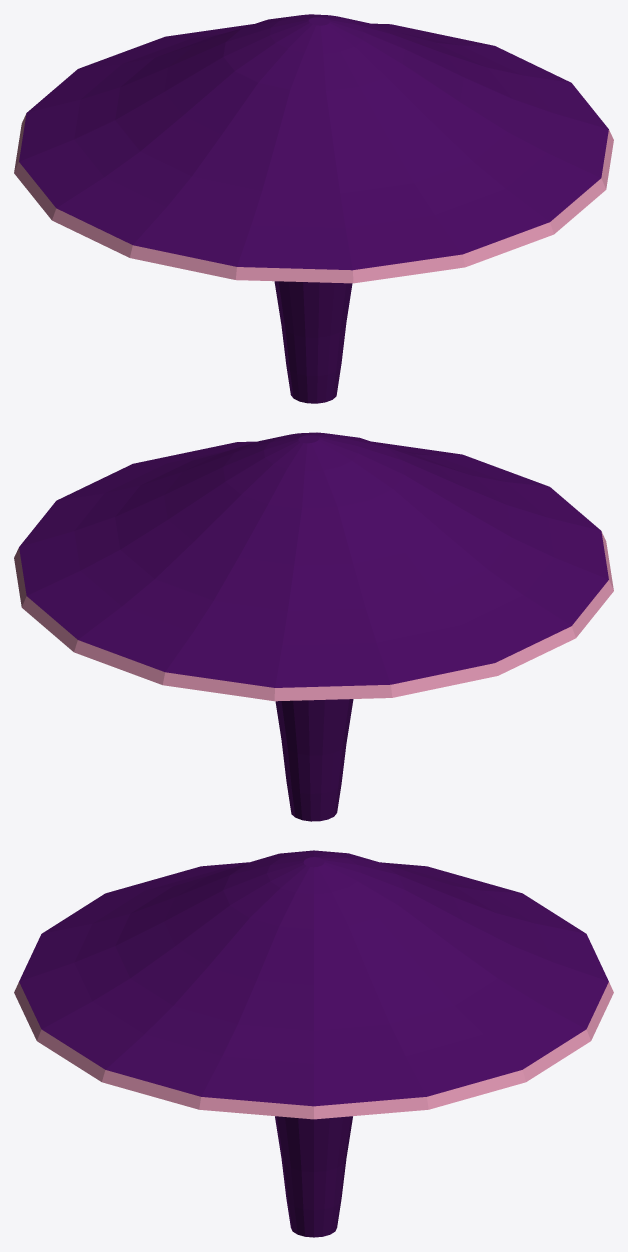
Rendered from mushroomFlatHub.fbx.
The picture shows the model from 3 angles, top to bottom: view 1: azimuth 30°, elevation 25°; view 2: azimuth 150°, elevation 25°; view 3: azimuth 270°, elevation 25°; orthographic projection.
Parts seen in each view (by area): view 1: Cylinder; view 2: Cylinder; view 3: Cylinder.
Part boxes in pixels (x1,y1,x2,y2): Cylinder: (14, 14, 613, 403); Cylinder: (14, 432, 613, 821); Cylinder: (14, 850, 613, 1237).
Bounding box in the file's own units: 203 × 138 × 203.
